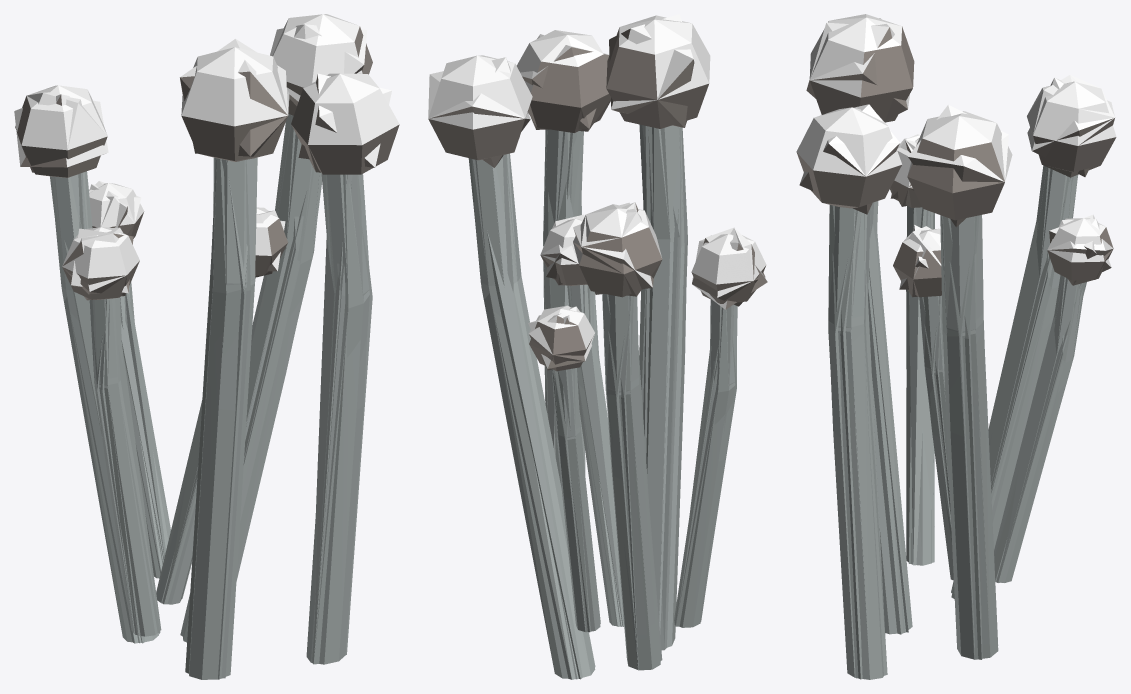
The model's file is Mushroom_6_Snowy.fbx.
The picture shows the model from 3 angles, left to right: view 1: azimuth 30°, elevation 25°; view 2: azimuth 150°, elevation 25°; view 3: azimuth 270°, elevation 25°; orthographic projection. The views are drawn at different scales.
Visible parts, largest first — view 1: Mushroom 6_LOD0_Snowy, Mushroom 6_LOD1_Snowy, Mushroom 6_LOD3_Snowy, Mushroom 6_LOD2_Snowy; view 2: Mushroom 6_LOD0_Snowy, Mushroom 6_LOD1_Snowy, Mushroom 6_LOD2_Snowy, Mushroom 6_LOD3_Snowy; view 3: Mushroom 6_LOD0_Snowy, Mushroom 6_LOD1_Snowy, Mushroom 6_LOD3_Snowy, Mushroom 6_LOD2_Snowy.
Part boxes in pixels (x1,y1,x2,y2): Mushroom 6_LOD0_Snowy: (15,14,399,679); Mushroom 6_LOD1_Snowy: (17,19,398,664); Mushroom 6_LOD3_Snowy: (14,24,391,679); Mushroom 6_LOD2_Snowy: (22,92,363,678); Mushroom 6_LOD0_Snowy: (428,15,766,679); Mushroom 6_LOD1_Snowy: (429,24,765,679); Mushroom 6_LOD2_Snowy: (468,94,765,679); Mushroom 6_LOD3_Snowy: (428,14,767,667); Mushroom 6_LOD0_Snowy: (796,14,1116,679); Mushroom 6_LOD1_Snowy: (797,28,1115,675); Mushroom 6_LOD3_Snowy: (799,18,1114,677); Mushroom 6_LOD2_Snowy: (828,75,1115,679).
Bounding box in the file's own units: 17.26 × 32.69 × 15.25.
